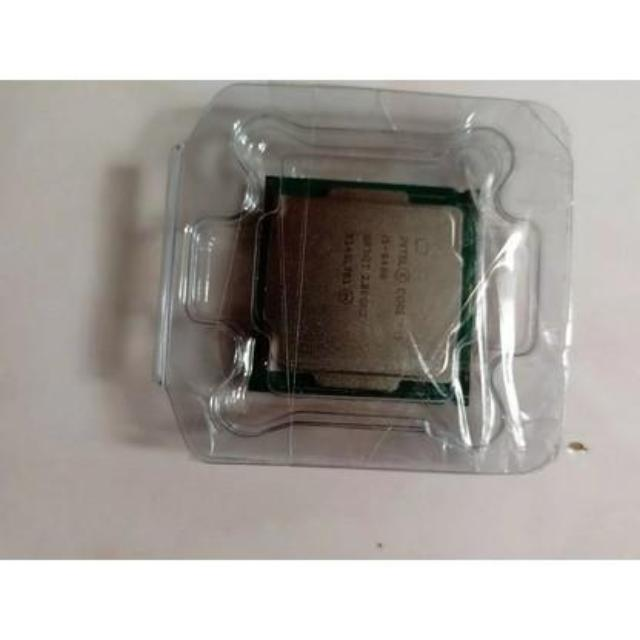CPU: (258, 182, 467, 404)
